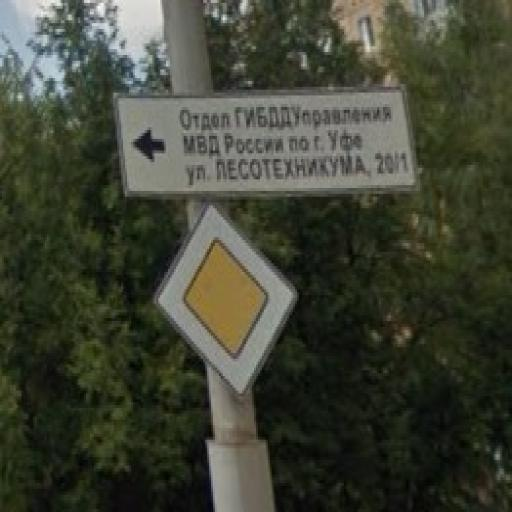traffic_sign: (151, 198, 300, 406)
